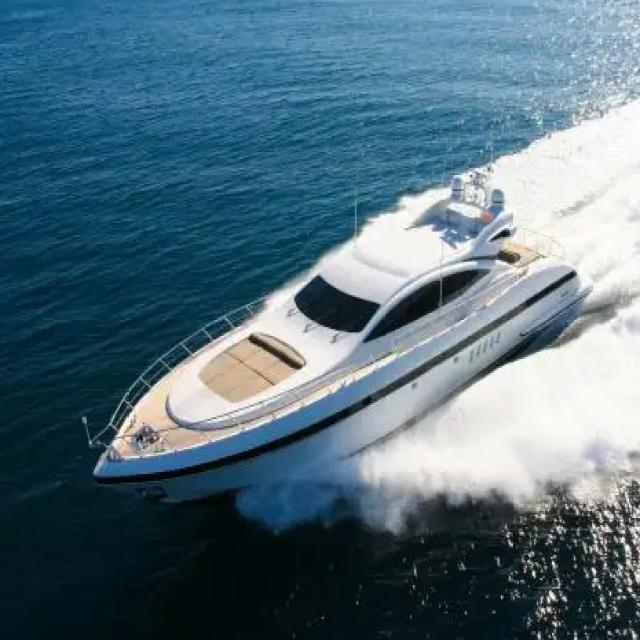houseboat: (96, 139, 586, 503)
